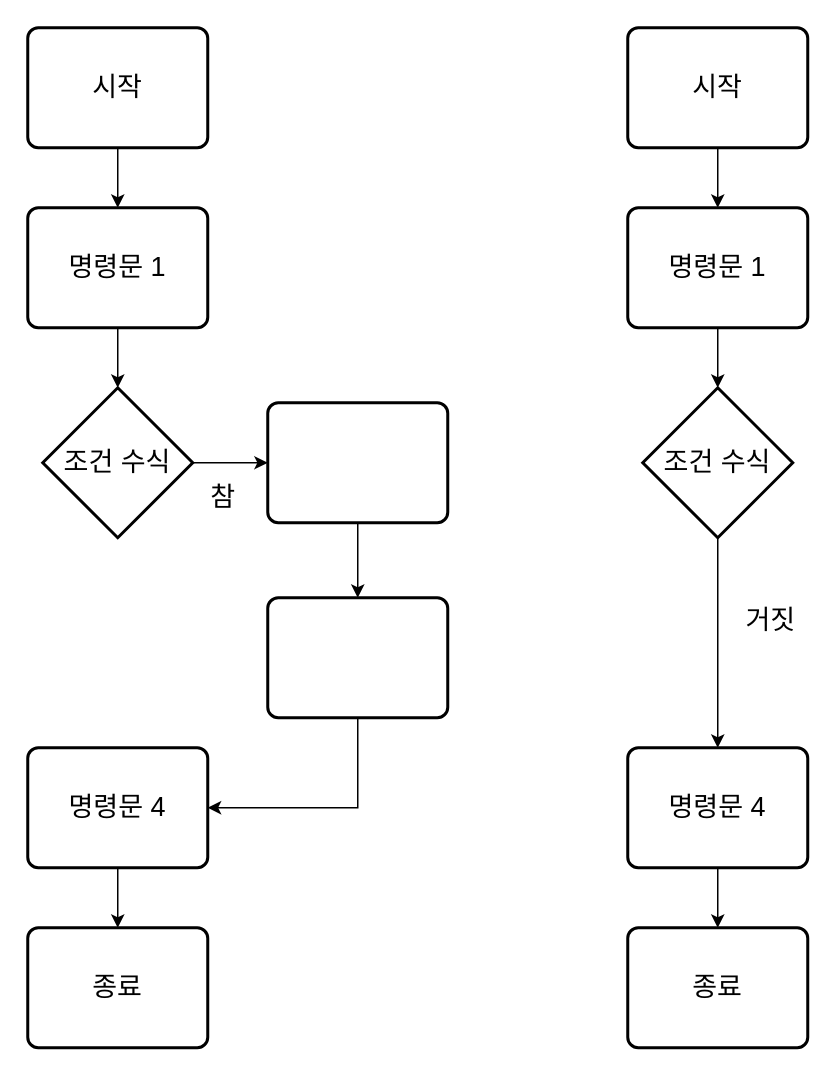
This 840x1074 diagram has some shape labels left out. Each missing label, with the centre of its shape:
"명령문 2" goes at point 357,462.
"명령문 3" goes at point 357,657.
